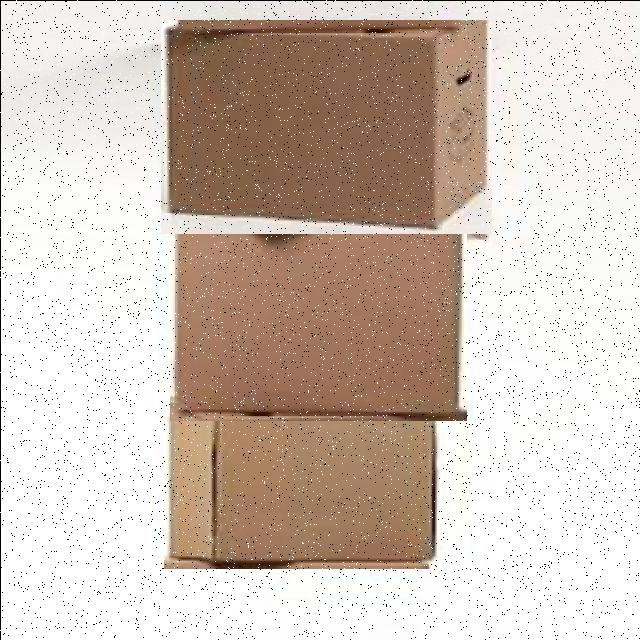normal: (160, 19, 491, 232), (169, 214, 466, 420), (163, 406, 439, 568)
